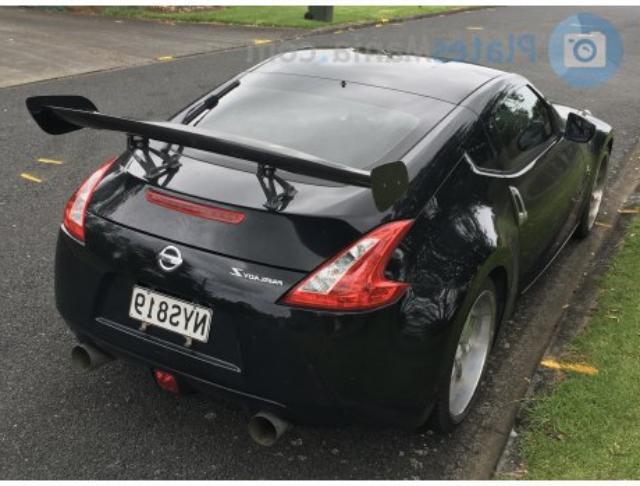Rego: (129, 287, 211, 343)
